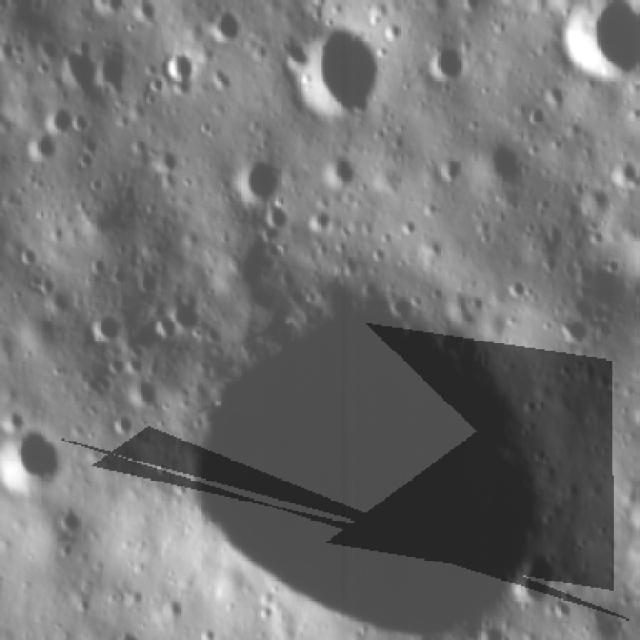crater: (163, 278, 574, 640), (278, 10, 392, 121), (552, 0, 640, 86), (0, 418, 69, 498), (475, 125, 534, 203), (230, 146, 293, 208), (505, 551, 564, 615), (50, 40, 108, 98), (426, 37, 472, 92), (12, 121, 60, 168), (40, 92, 86, 140), (157, 44, 205, 90), (319, 146, 363, 194), (208, 3, 248, 46), (428, 154, 469, 186), (629, 203, 640, 285)
